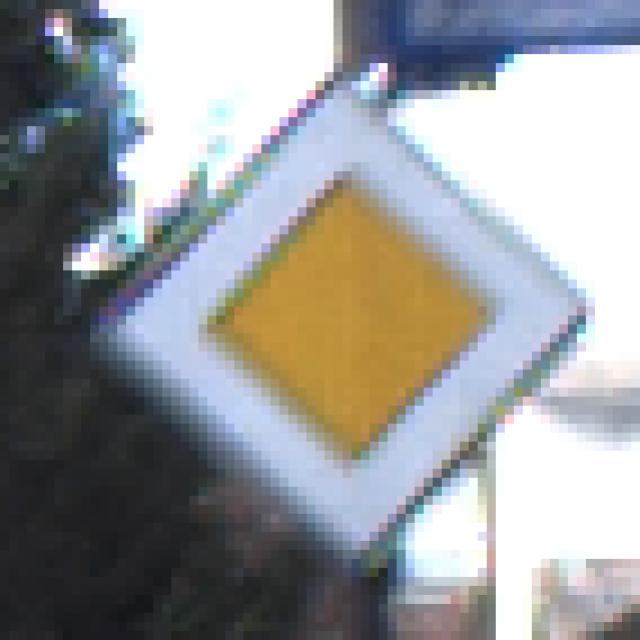Main Road: (64, 64, 587, 587)
